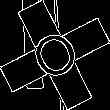O_SE: (25, 23, 85, 87)
